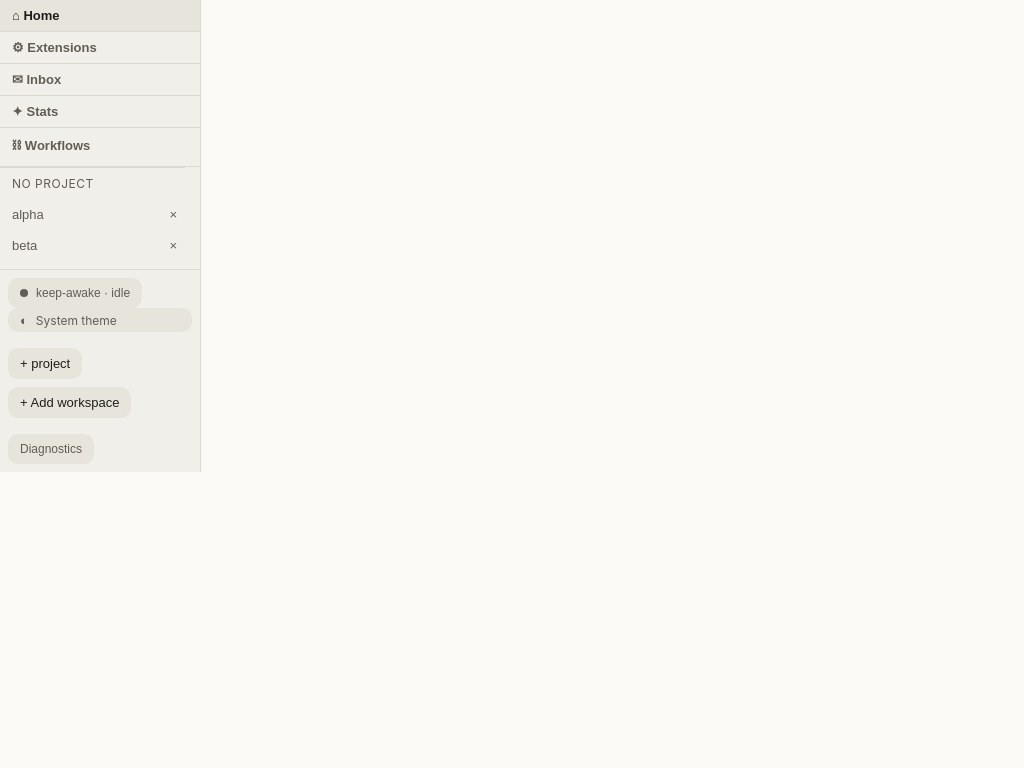
it: WorkspaceSidebar › "+ project" opens CreateProjectDialog
The image size is (1024, 768).
What coordinates should you click on to do the following:
click the button with test id "create-project-open"
I would click on:
 (45, 364)
Its box is 8,348 -> 82,379.
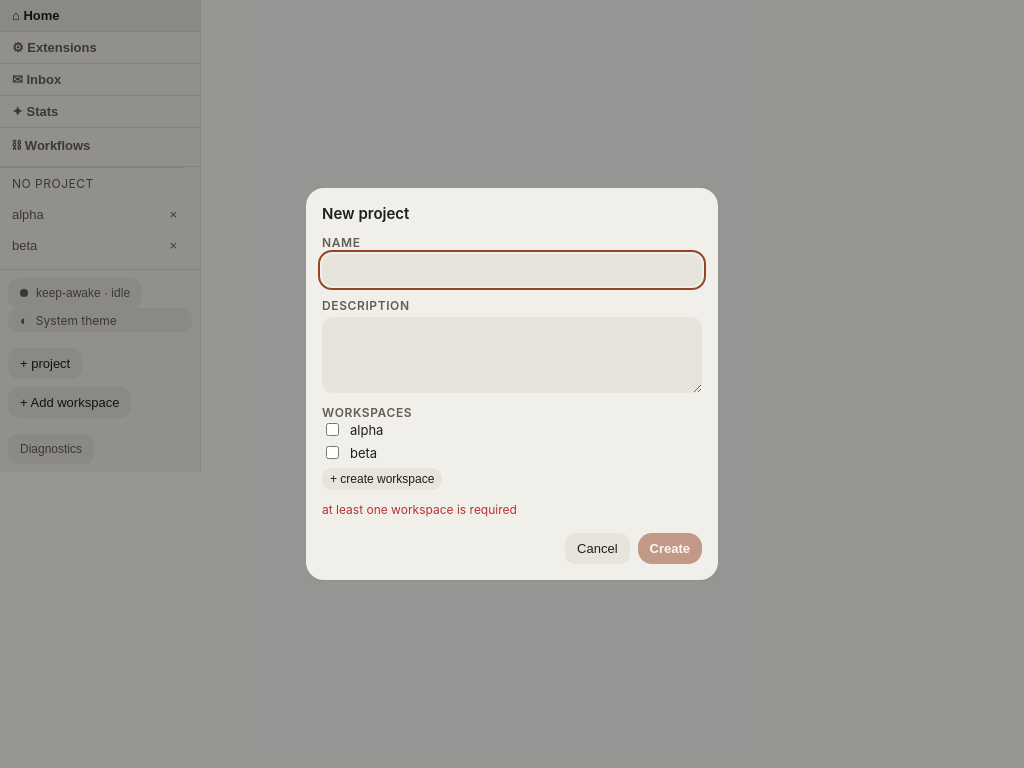
Now the dialog with test id "create-project-dialog" is shown, box 306,188 -> 718,580
